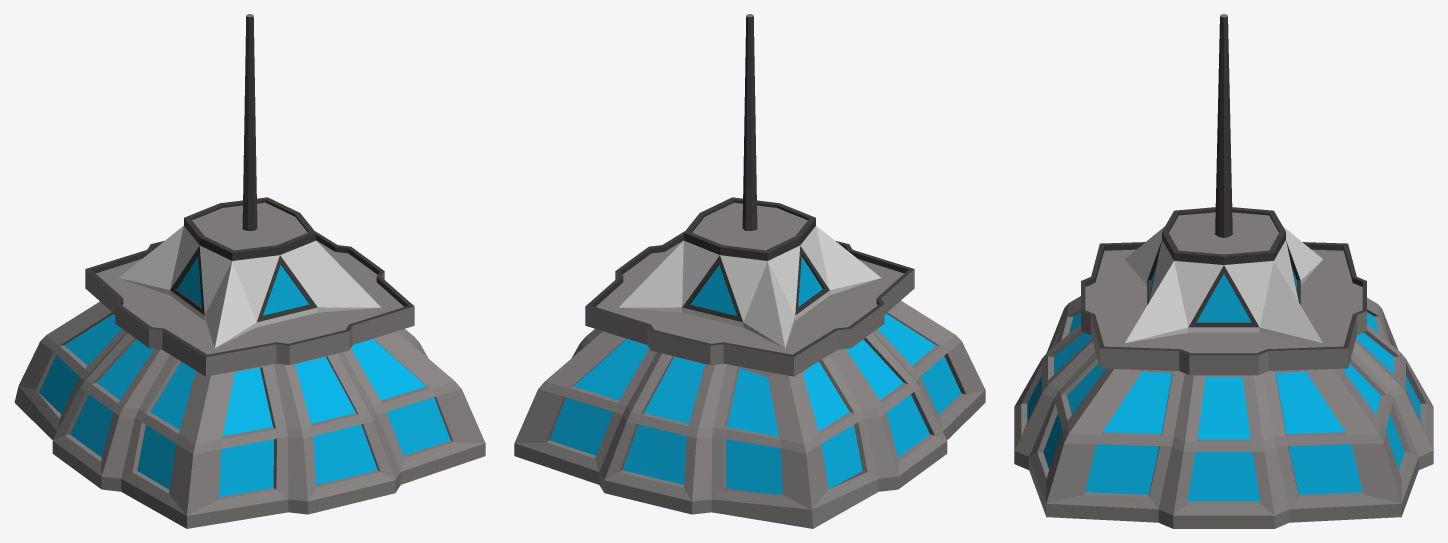
File: Building_8.fbx
3 renders of one model, left to right at view 1: azimuth 30°, elevation 25°; view 2: azimuth 150°, elevation 25°; view 3: azimuth 270°, elevation 25°, orthographic. The views are drawn at different scales.
Parts seen in each view (by area): view 1: Building_Mesh_8; view 2: Building_Mesh_8; view 3: Building_Mesh_8.
Boxes of the visible parts, bbox=[...] form: Building_Mesh_8: bbox=[14, 14, 485, 528]; Building_Mesh_8: bbox=[514, 14, 985, 528]; Building_Mesh_8: bbox=[1014, 14, 1433, 528].
Bounding box in the file's own units: 3.57 × 4.09 × 3.64.
